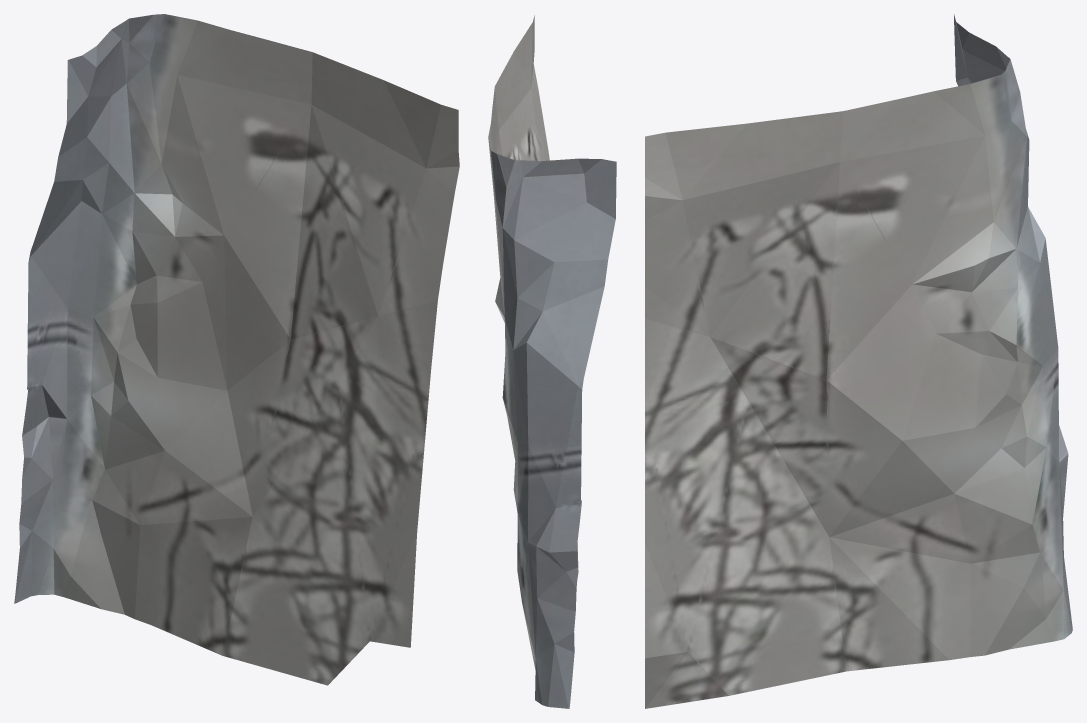
The picture shows the model from 3 angles, left to right: view 1: azimuth 30°, elevation 25°; view 2: azimuth 150°, elevation 25°; view 3: azimuth 270°, elevation 25°; orthographic projection. The views are drawn at different scales.
Bounding box in the file's own units: 0.7308 × 1.67 × 1.07.
Materials: 2 (2 with a texture image).
